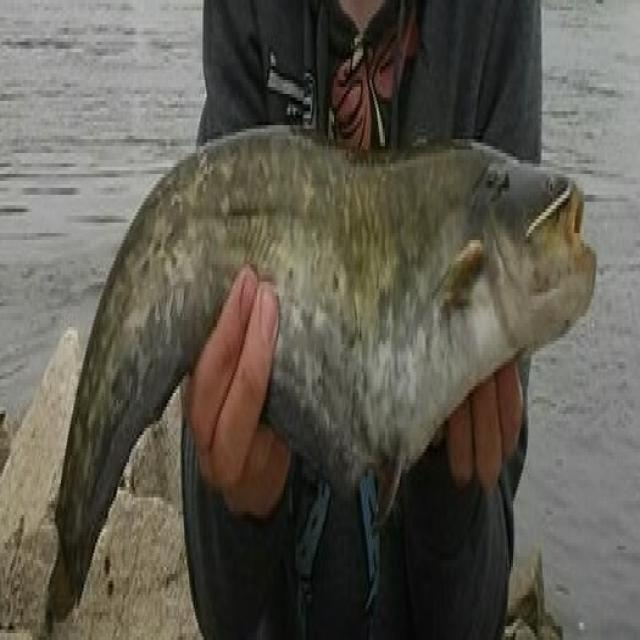Catfish: (48, 105, 610, 618)
